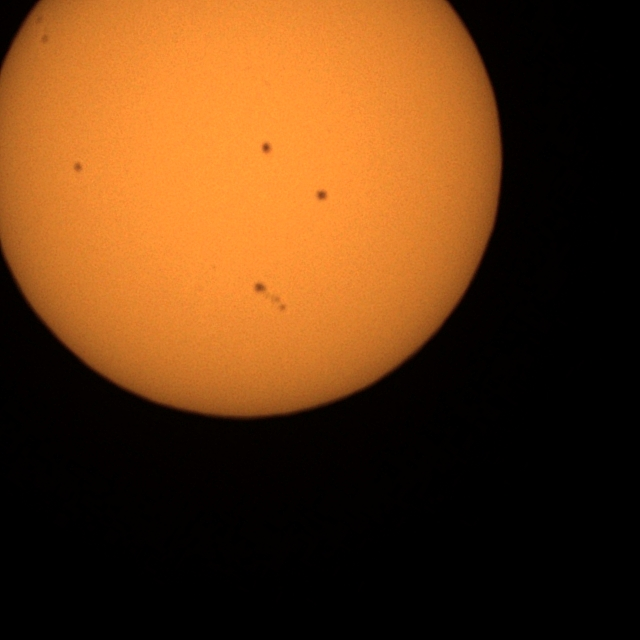sunspot: (254, 281, 288, 313), (314, 188, 329, 203), (260, 141, 274, 156), (72, 161, 84, 173)
